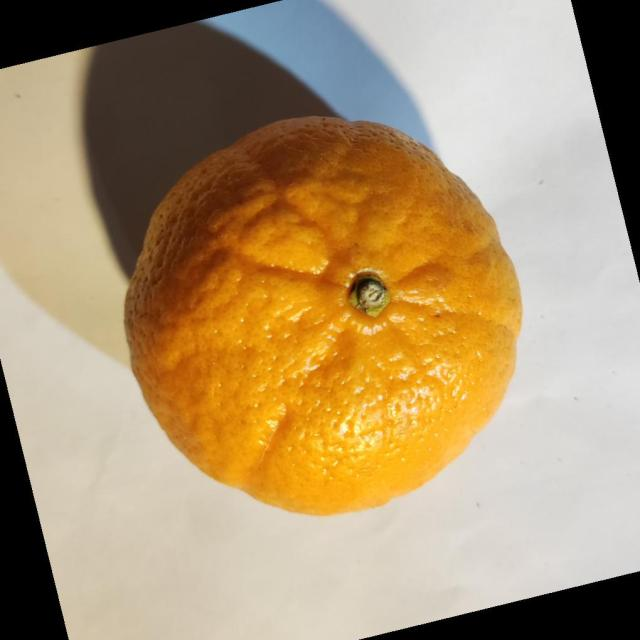fresh orange: (122, 114, 524, 516)
